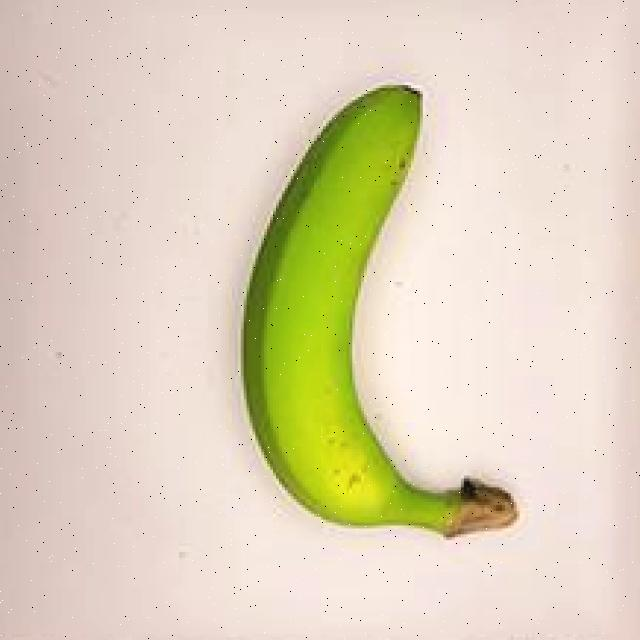Unripe: (225, 65, 532, 562)
